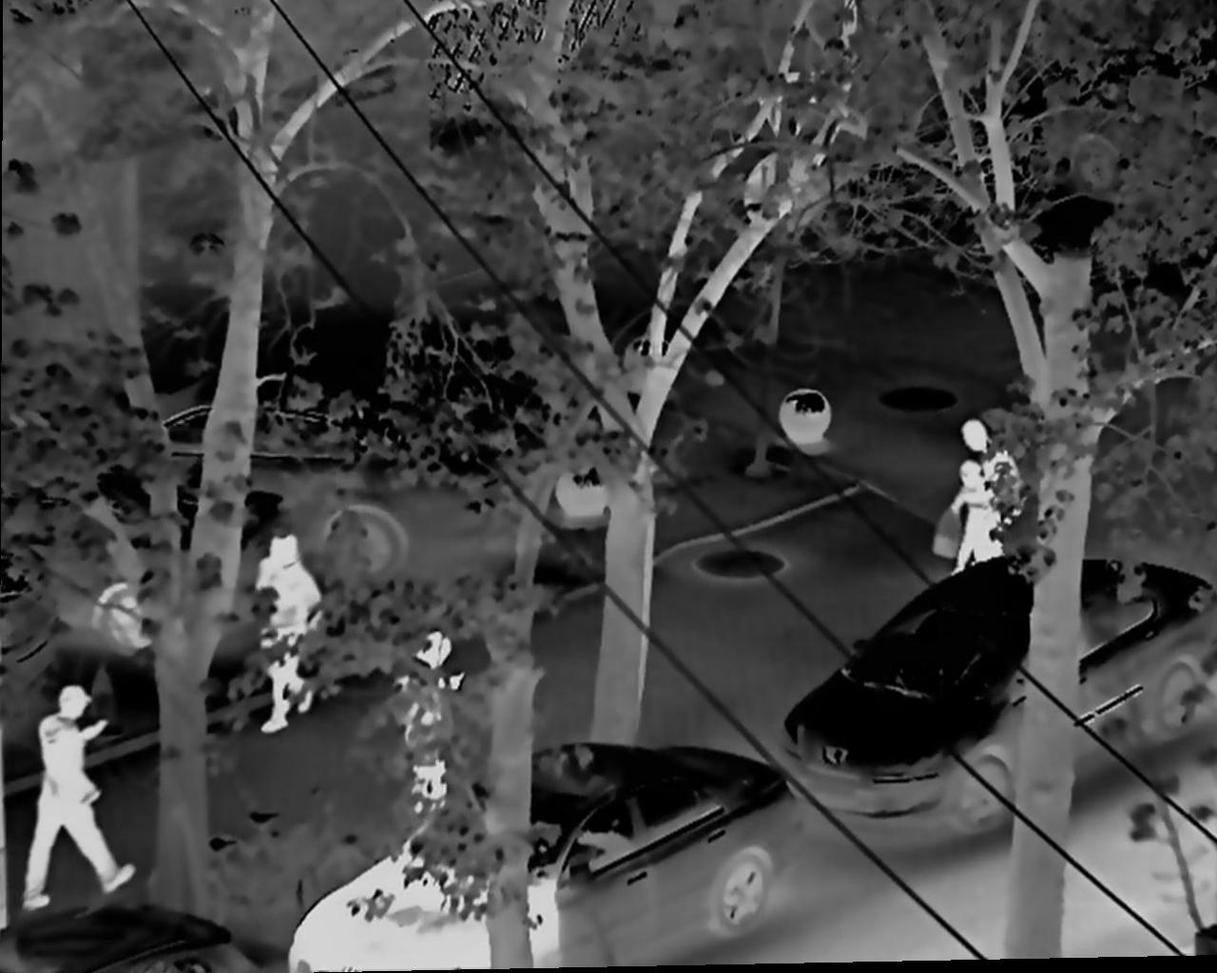person: (19, 684, 137, 903), (245, 534, 331, 736), (388, 629, 466, 831), (938, 418, 1023, 580)
